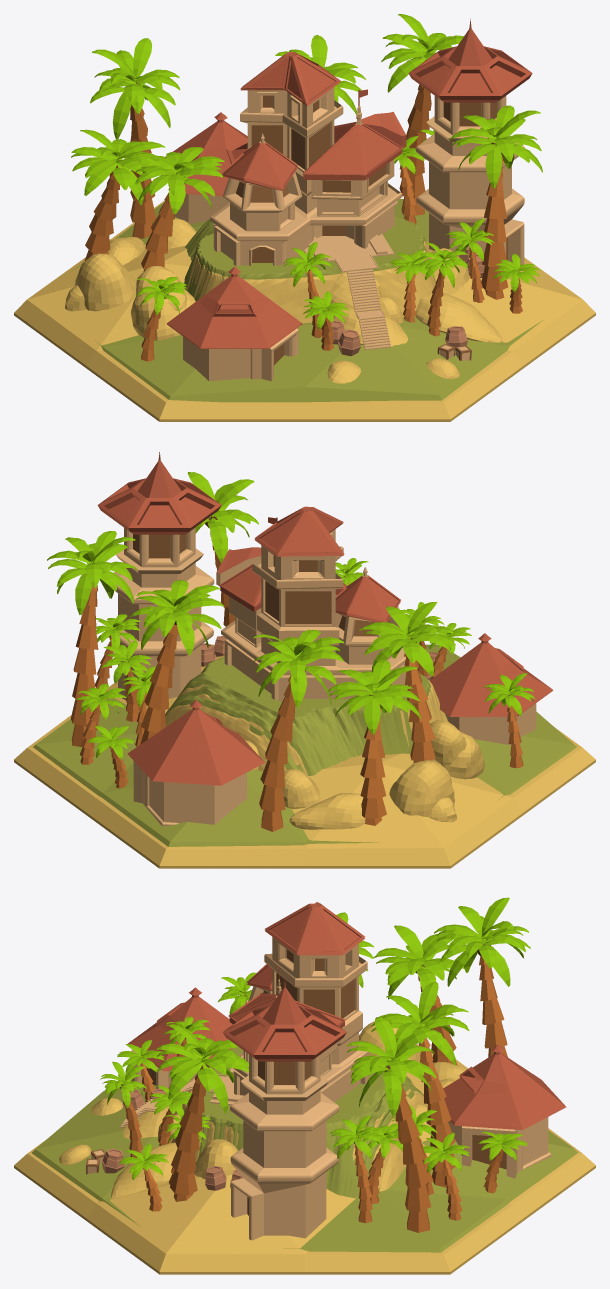
The model's file is castle1.glb.
3 renders of one model, top to bottom at view 1: azimuth 30°, elevation 25°; view 2: azimuth 150°, elevation 25°; view 3: azimuth 270°, elevation 25°, orthographic.
Visible parts, largest first — view 1: Landscape, trees_animation; view 2: Landscape, trees_animation; view 3: Landscape, trees_animation.
Boxes of the visible parts, left/top/right/bottom form: Landscape: left=14, top=18, right=595, bottom=421; trees_animation: left=71, top=14, right=542, bottom=361; Landscape: left=14, top=452, right=595, bottom=868; trees_animation: left=47, top=472, right=535, bottom=831; Landscape: left=14, top=902, right=595, bottom=1274; trees_animation: left=100, top=897, right=530, bottom=1232.
Size of the model in its own units: 1.73 by 1.05 by 2.
Materials: 1 (1 with a texture image).
